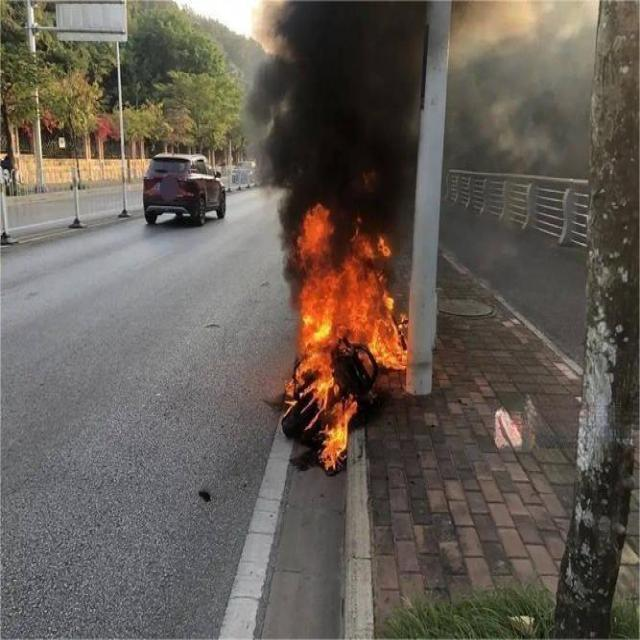fire: (292, 205, 408, 471)
